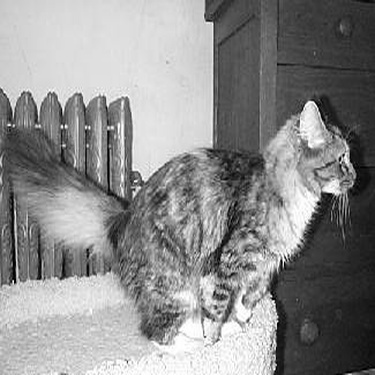cat: (16, 101, 355, 346)
